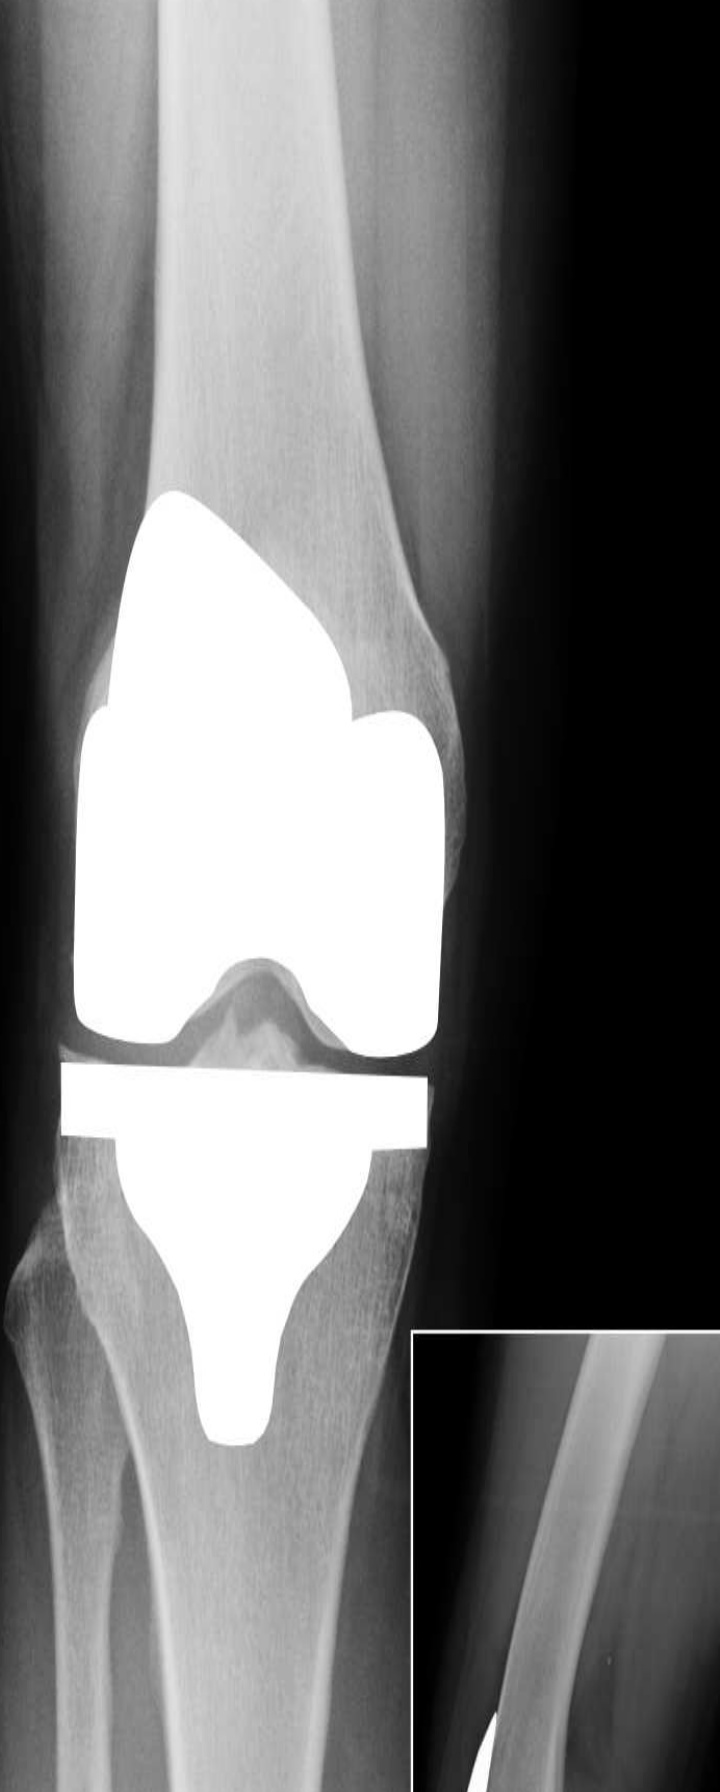Knee-Triathlon-Stryker: (55, 483, 459, 1445), (464, 1709, 533, 1787)
